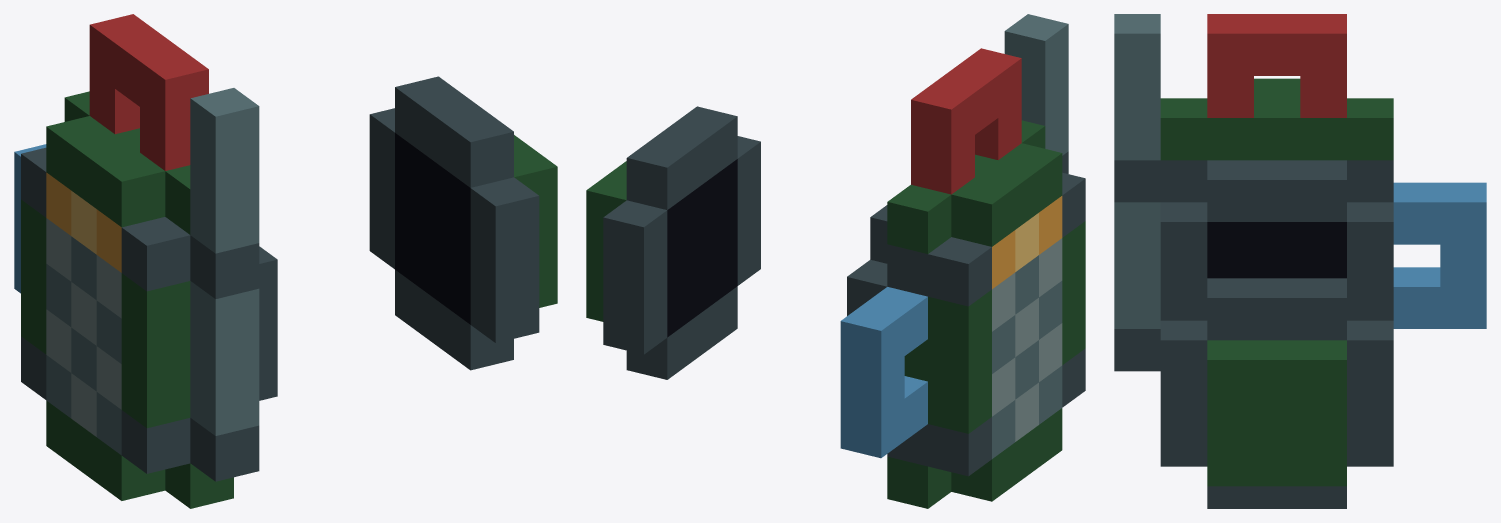
File: WeaponC4.obj
3 renders of one model, left to right at view 1: azimuth 30°, elevation 25°; view 2: azimuth 150°, elevation 25°; view 3: azimuth 270°, elevation 25°, orthographic. The views are drawn at different scales.
Bounding box in the file's own units: 1 × 0.9 × 0.8.
Materials: 1 (1 with a texture image).
